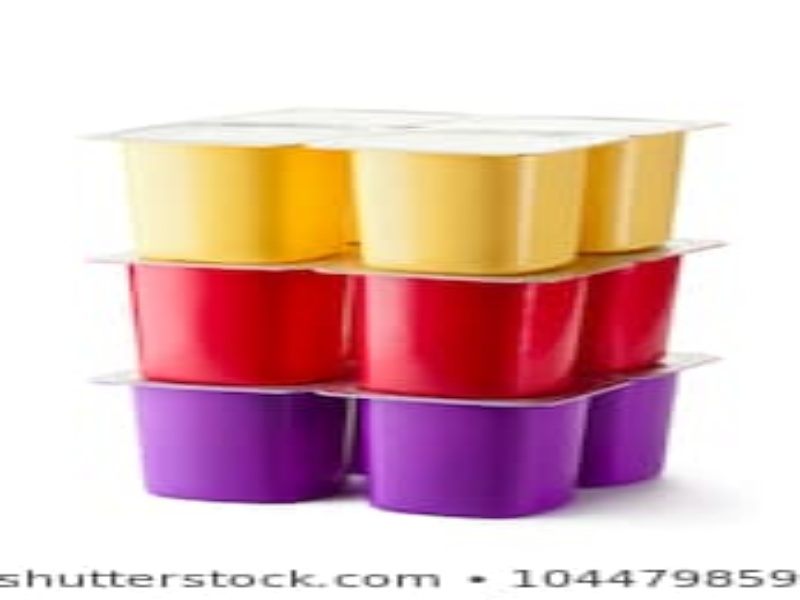yogurt-cup: (74, 122, 349, 267), (330, 123, 595, 273), (327, 258, 594, 397), (94, 373, 362, 507), (93, 256, 366, 384), (357, 386, 610, 520), (503, 109, 722, 252), (566, 349, 721, 490), (570, 246, 723, 373)
